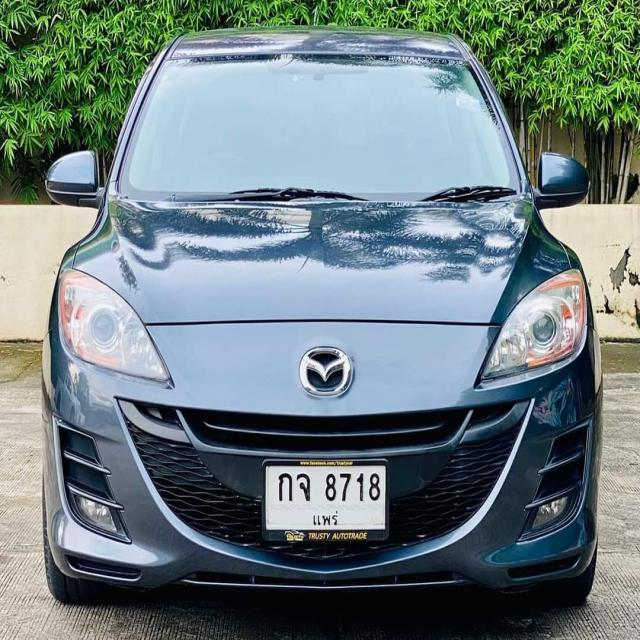license_plate: (260, 458, 392, 544)
